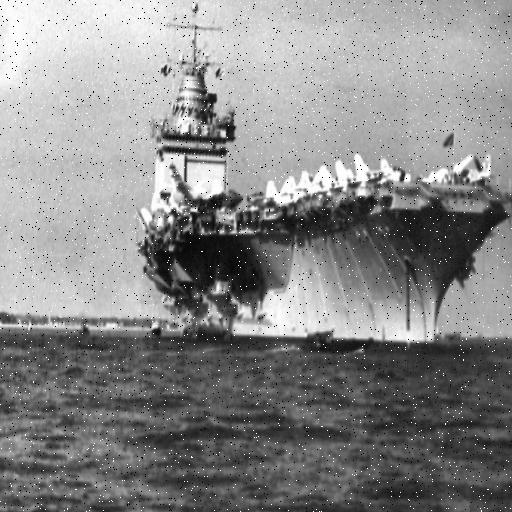Portanaves: (134, 1, 512, 353)
